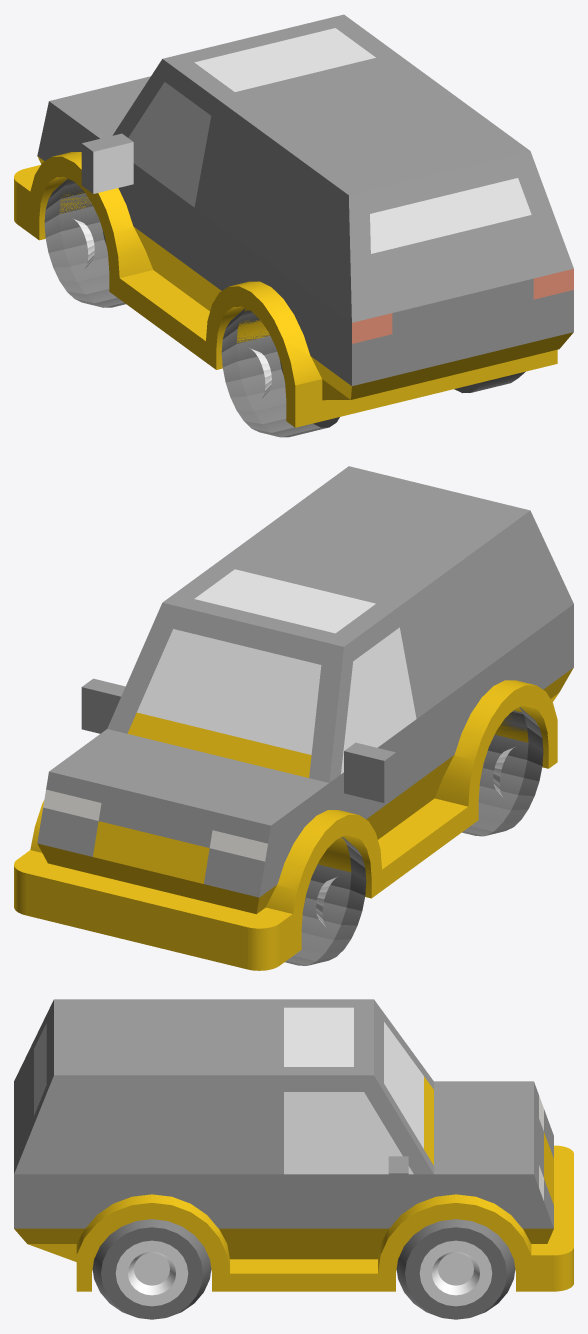
File: suvLuxury.glb
The picture shows the model from 3 angles, top to bottom: view 1: azimuth 30°, elevation 25°; view 2: azimuth 150°, elevation 25°; view 3: azimuth 270°, elevation 25°; orthographic projection. The views are drawn at different scales.
Visible parts, largest first — view 1: body; view 2: body; view 3: body.
Part boxes in pixels (<box>): body: <box>14,14,573,437</box>; body: <box>14,466,573,970</box>; body: <box>14,999,573,1319</box>.
Size of the model in its own units: 1.5 by 1.3 by 2.8.
